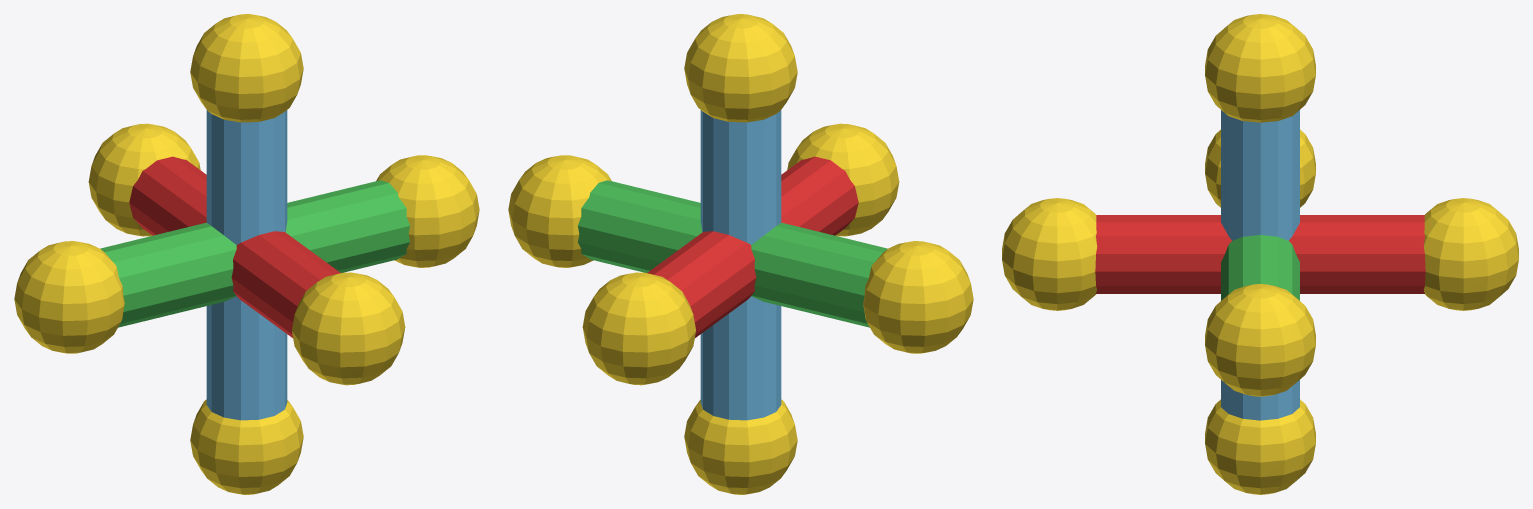
File: Item_Toys.obj
3 views of the same model, side by side, from view 1: azimuth 30°, elevation 25°; view 2: azimuth 150°, elevation 25°; view 3: azimuth 270°, elevation 25° (orthographic).
Visible parts, largest first — view 1: Item_Toys; view 2: Item_Toys; view 3: Item_Toys.
Part boxes in pixels (x1=…): Item_Toys: x1=14, y1=14, x2=479, y2=494; Item_Toys: x1=508, y1=14, x2=973, y2=494; Item_Toys: x1=1002, y1=14, x2=1518, y2=494.
Size of the model in its own units: 0.64 by 0.64 by 0.6364.
